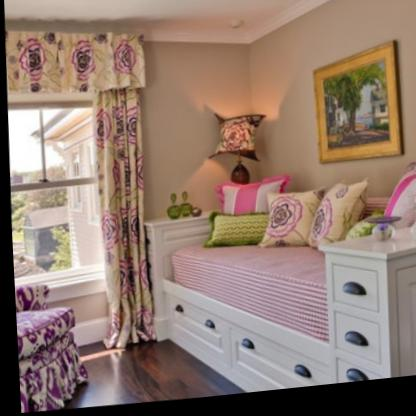Curtains: (88, 37, 149, 352)
Frame: (315, 50, 401, 172)
